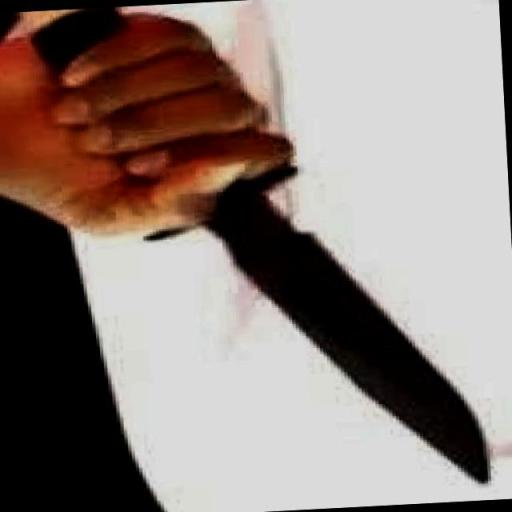knife: (16, 0, 493, 506)
